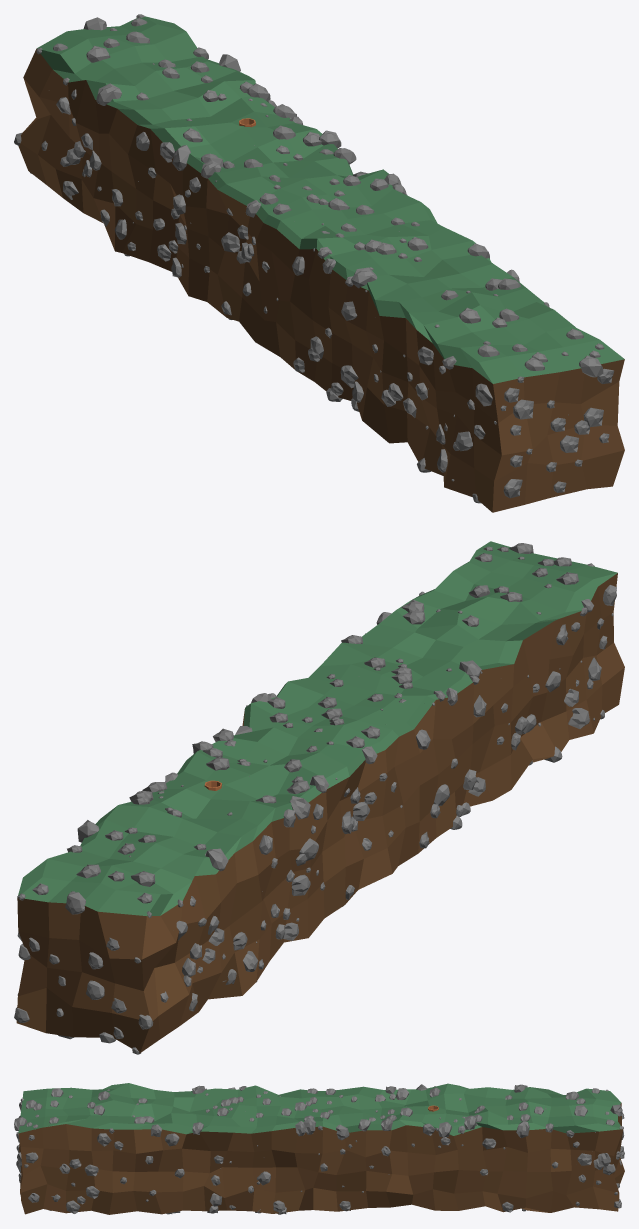
File: powierzchnia.fbx
3 renders of one model, top to bottom at view 1: azimuth 30°, elevation 25°; view 2: azimuth 150°, elevation 25°; view 3: azimuth 270°, elevation 25°, orthographic. The views are drawn at different scales.
Visible parts, largest first — view 1: Cube.004; view 2: Cube.004; view 3: Cube.004.
Boxes of the visible parts, x1,y1,x2,y2 form: Cube.004: [14, 14, 624, 512]; Cube.004: [14, 541, 624, 1054]; Cube.004: [14, 1083, 624, 1214].
Size of the model in its own units: 5765 by 6088 by 32403.
